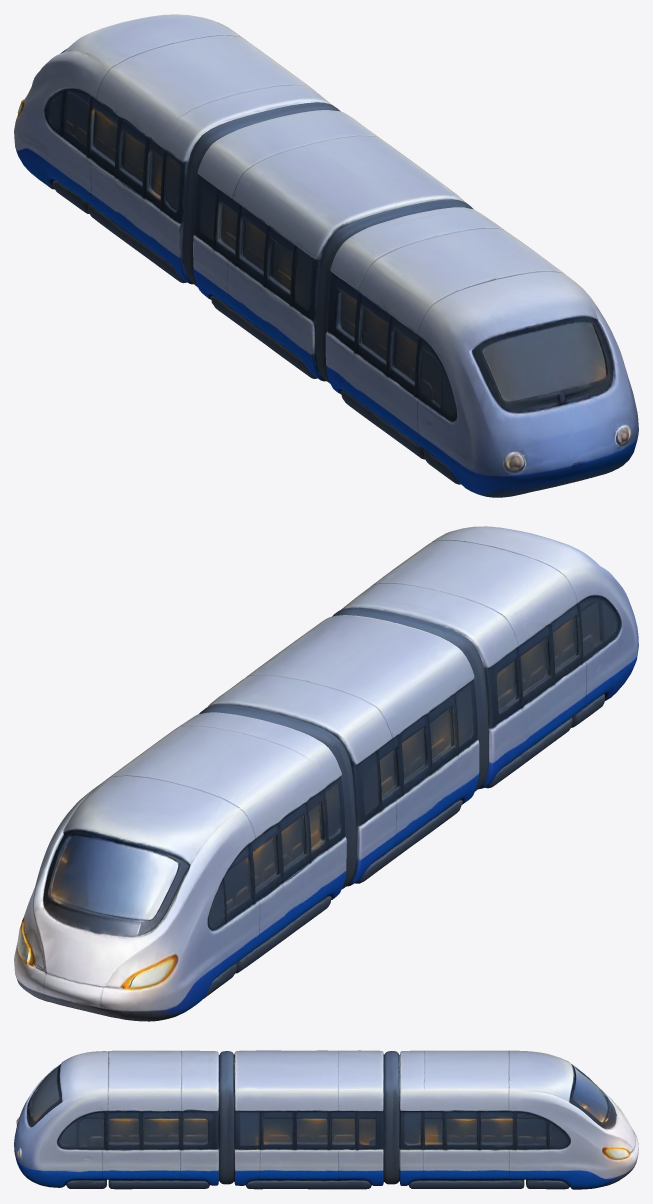
Rendered from train.glb.
The picture shows the model from 3 angles, top to bottom: view 1: azimuth 30°, elevation 25°; view 2: azimuth 150°, elevation 25°; view 3: azimuth 270°, elevation 25°; orthographic projection. The views are drawn at different scales.
Visible parts, largest first — view 1: model; view 2: model; view 3: model.
Part boxes in pixels (bbox=[...]): model: bbox=[14, 14, 638, 497]; model: bbox=[14, 526, 638, 1021]; model: bbox=[14, 1050, 638, 1189].
Bounding box in the file's own units: 0.263 × 0.2529 × 1.35.
Materials: 1 (1 with a texture image).
